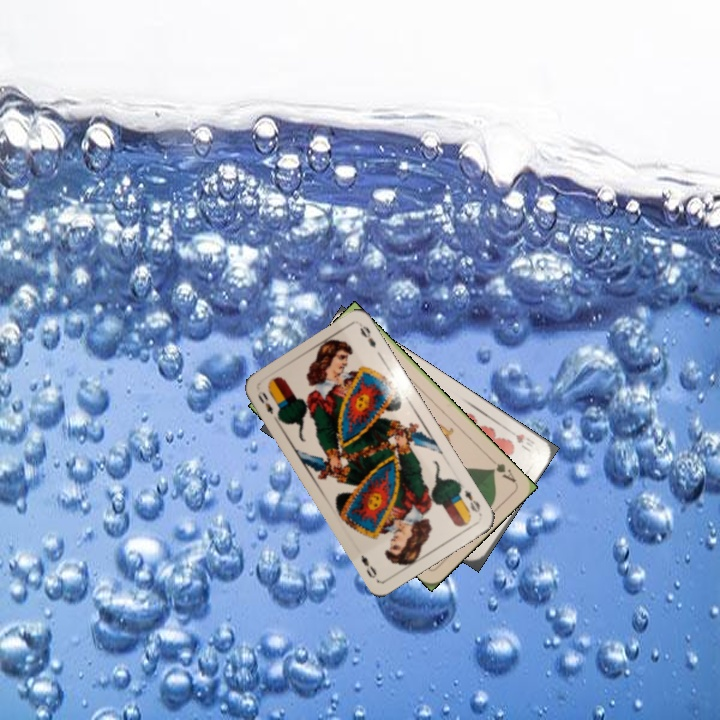EO: (460, 486, 484, 518), (253, 387, 276, 417)
GA: (486, 454, 518, 485)
H10: (511, 429, 538, 455)
